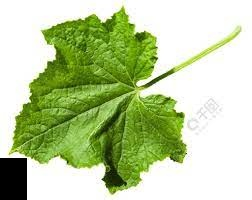cucumber_plant: (14, 15, 242, 190)
